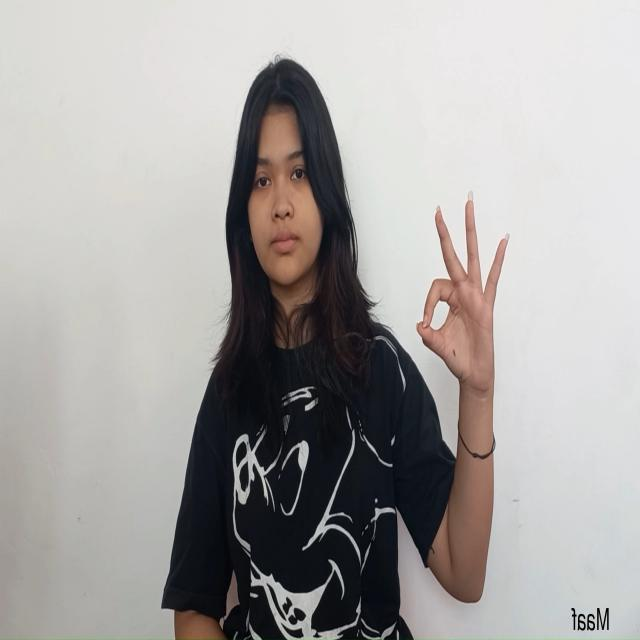Maaf -BISINDO-: (414, 188, 512, 421)
